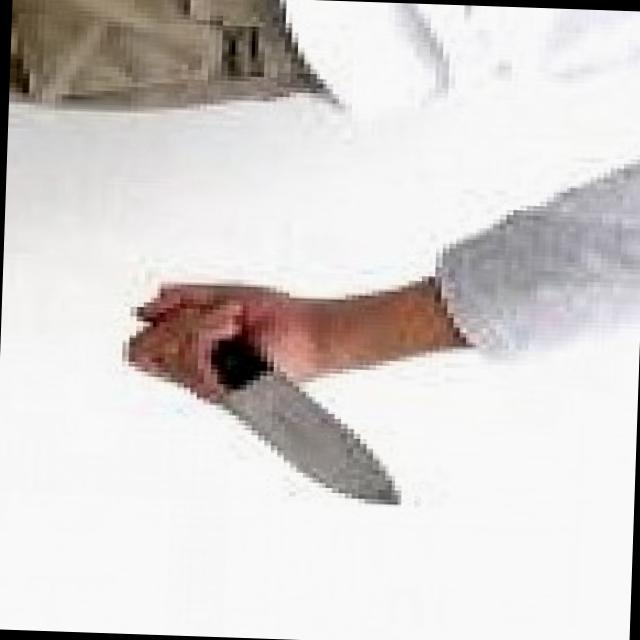knife: (102, 269, 424, 510)
